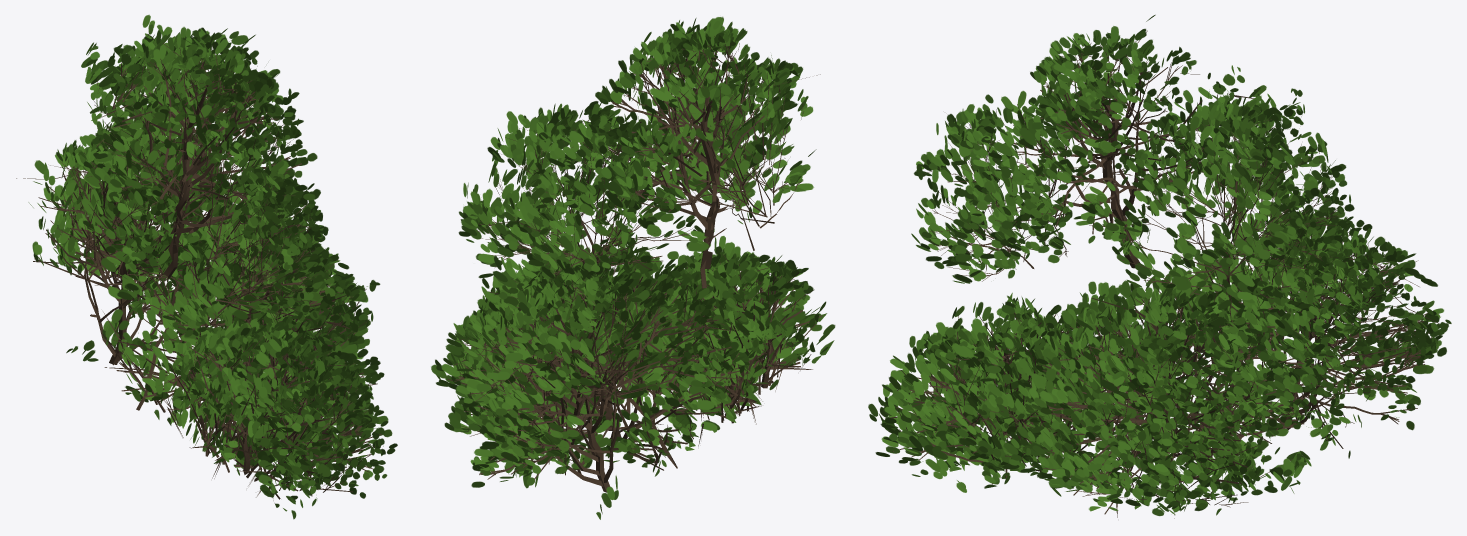
The picture shows the model from 3 angles, left to right: view 1: azimuth 30°, elevation 25°; view 2: azimuth 150°, elevation 25°; view 3: azimuth 270°, elevation 25°; orthographic projection. The views are drawn at different scales.
Parts seen in each view (by area): view 1: oak 01.001_trunk_Mat.001_0.398; view 2: oak 01.001_trunk_Mat.001_0.398; view 3: oak 01.001_trunk_Mat.001_0.398.
Part boxes in pixels (x1,y1,x2,y2): oak 01.001_trunk_Mat.001_0.398: (16,14,397,519); oak 01.001_trunk_Mat.001_0.398: (431,16,835,519); oak 01.001_trunk_Mat.001_0.398: (868,14,1451,518).
Bounding box in the file's own units: 2.37 × 3.96 × 4.91.
Materials: 2 (1 with a texture image).
